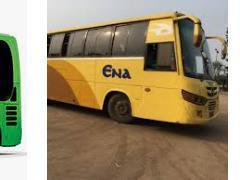bus: (47, 9, 228, 126)
